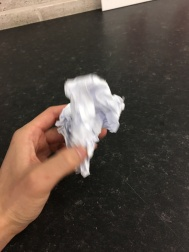paper_white: (48, 65, 129, 186)
